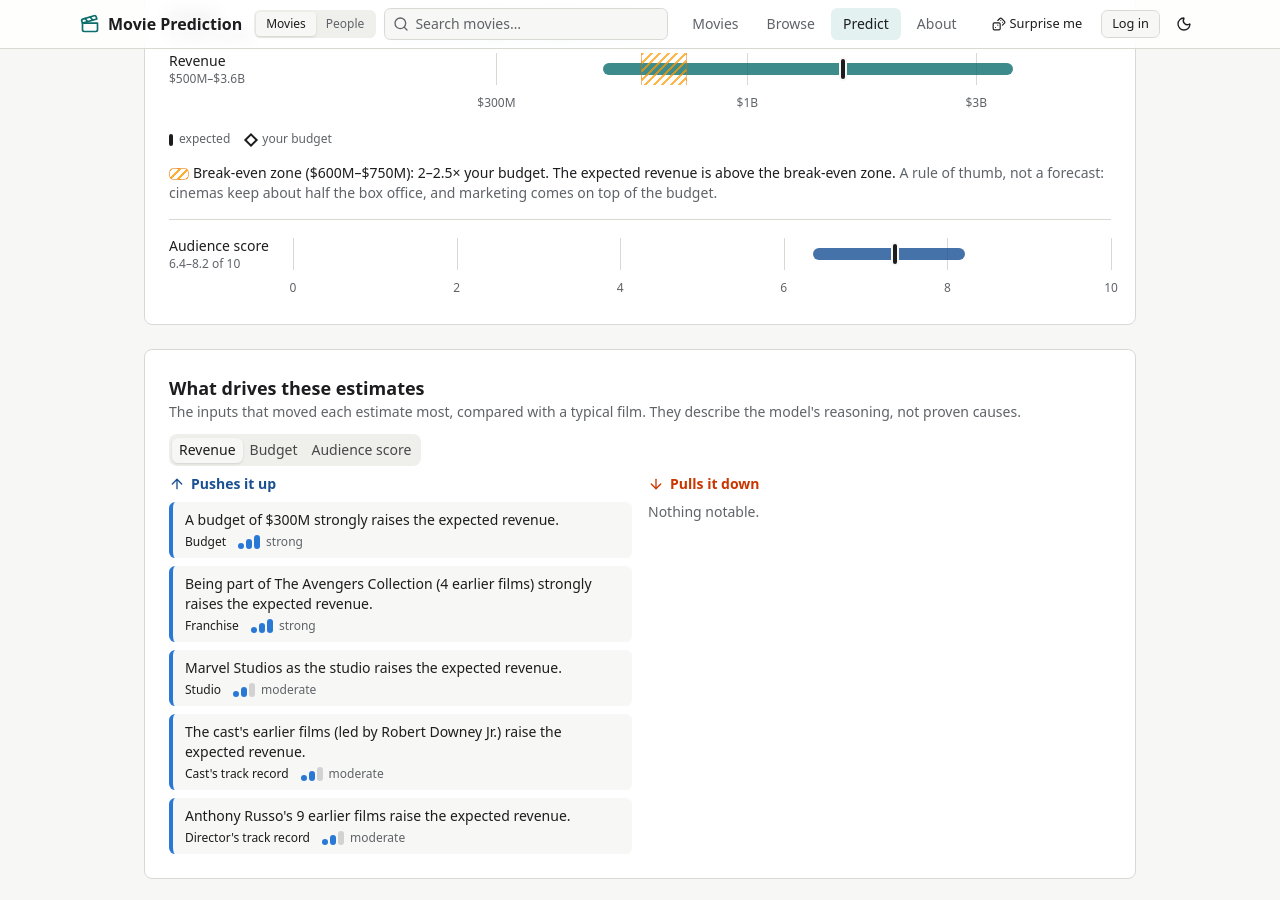
it: the golden examples › drivers open on revenue, and the tabs switch target
This screenshot has width=1280, height=900.
(page scrolled)
Expected: the text "A budget of $300M strongly raises the expected revenue." is shown, [185,510,620,530]
Click the tab "Budget".
click(273, 450)  # box [242,438,304,462]
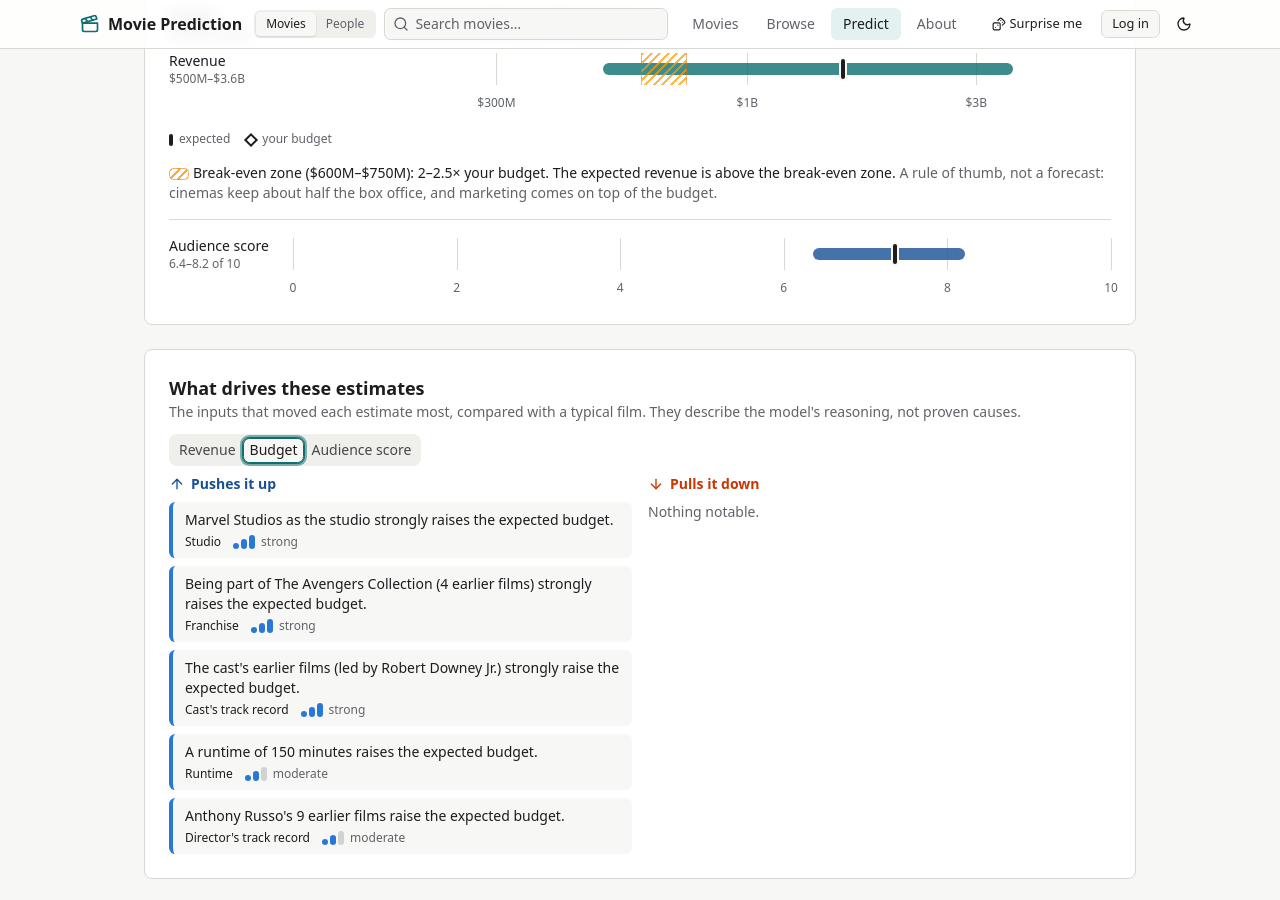
Now the text "Marvel Studios as the studio strongly raises the expected budget." is shown, box [185,510,620,530]
